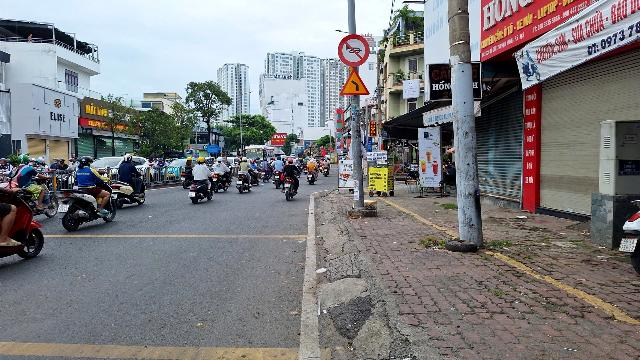cam-bop-coi: (338, 34, 370, 67)
cho-ngoat-nguy-hiem-ben-trai: (339, 68, 370, 96)
